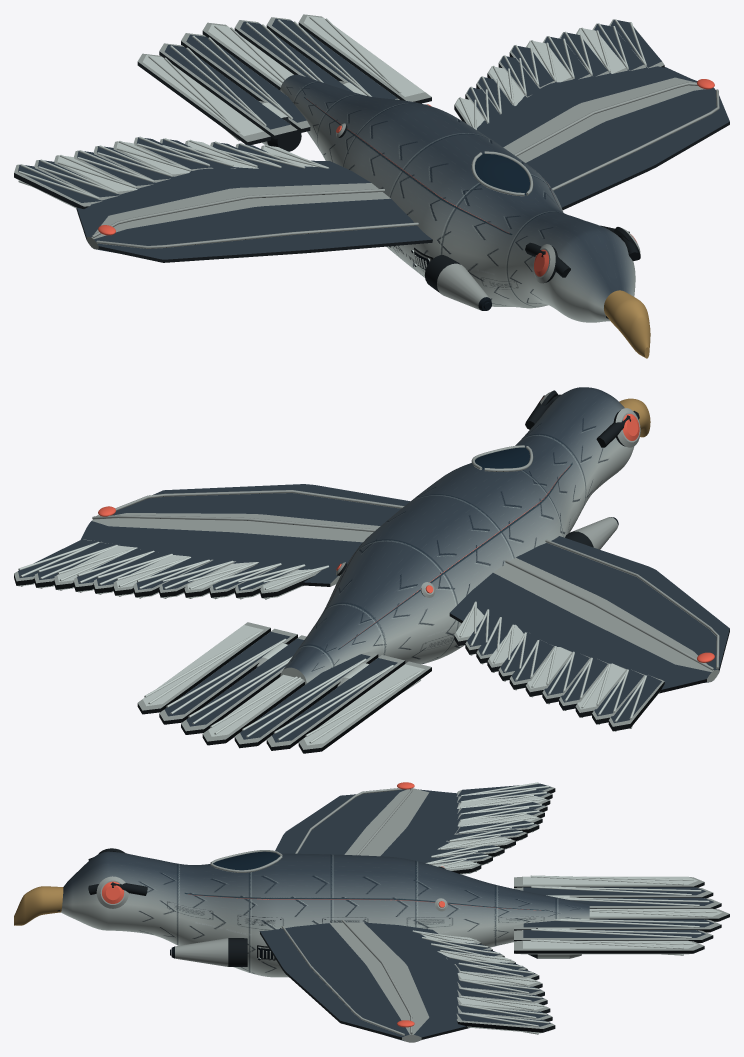
The model's file is ship.glb.
3 views of the same model, one above another, from view 1: azimuth 30°, elevation 25°; view 2: azimuth 150°, elevation 25°; view 3: azimuth 270°, elevation 25° (orthographic). The views are drawn at different scales.
Parts seen in each view (by area): view 1: shrike_hull; view 2: shrike_hull; view 3: shrike_hull.
Boxes of the visible parts, <box> form: shrike_hull: <box>14,14,729,358</box>; shrike_hull: <box>14,387,729,753</box>; shrike_hull: <box>14,782,729,1042</box>.
Bounding box in the file's own units: 13.49 × 2.96 × 16.5.
1 material, 1 textured.
